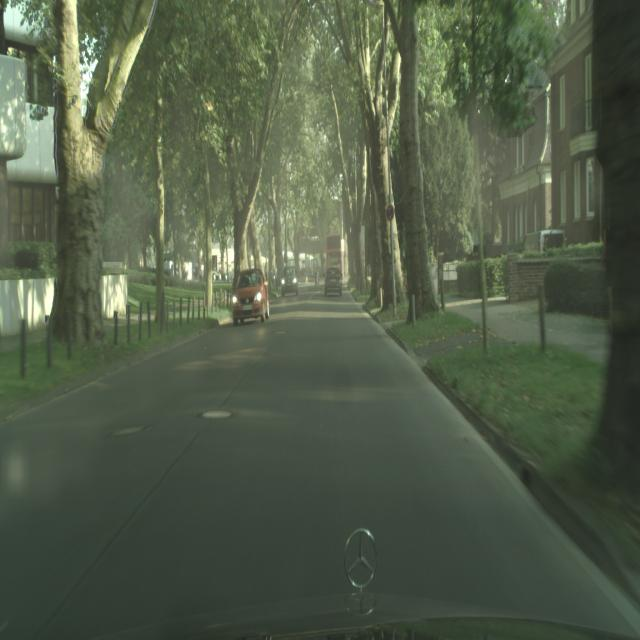train: (324, 234, 343, 298)
truck: (232, 268, 270, 325), (280, 266, 299, 298)
